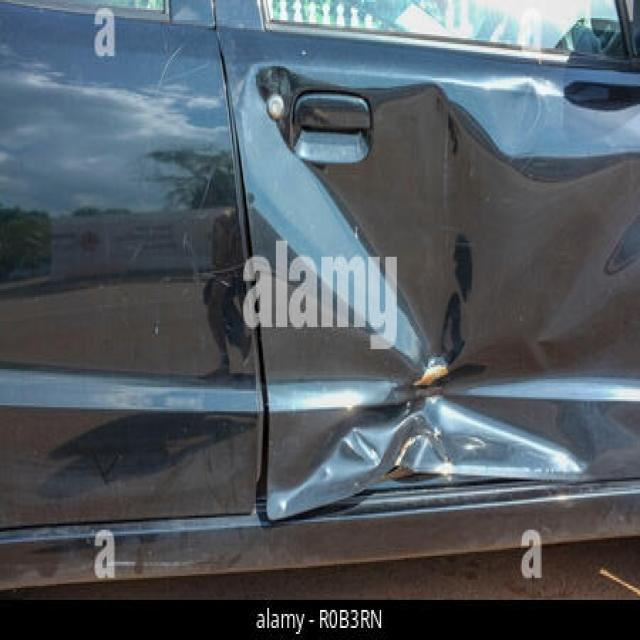crush: (156, 24, 640, 520)
